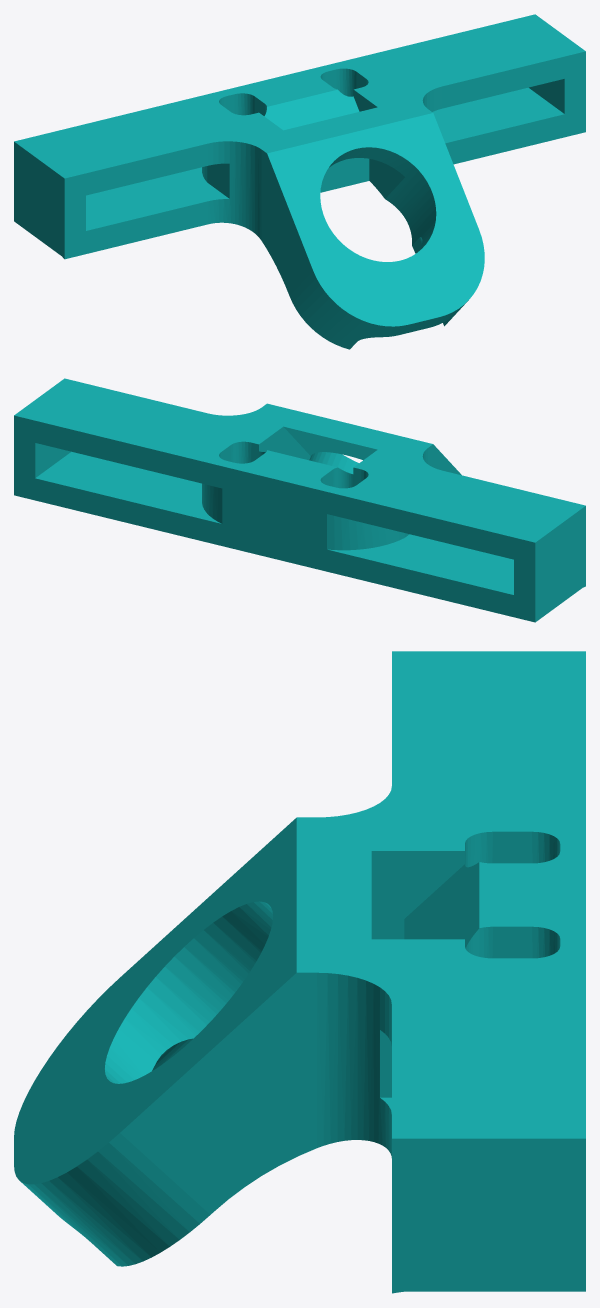
File: switchback sma mount.fbx
3 views of the same model, one above another, from view 1: azimuth 30°, elevation 25°; view 2: azimuth 150°, elevation 25°; view 3: azimuth 270°, elevation 25° (orthographic). The views are drawn at different scales.
Visible parts, largest first — view 1: switchback sma mount; view 2: switchback sma mount; view 3: switchback sma mount.
Boxes of the visible parts, left/top/right/bottom form: switchback sma mount: left=14, top=14, right=585, bottom=349; switchback sma mount: left=14, top=378, right=585, bottom=622; switchback sma mount: left=14, top=651, right=585, bottom=1293.
Size of the model in its own units: 30.75 by 9.62 by 15.25.
